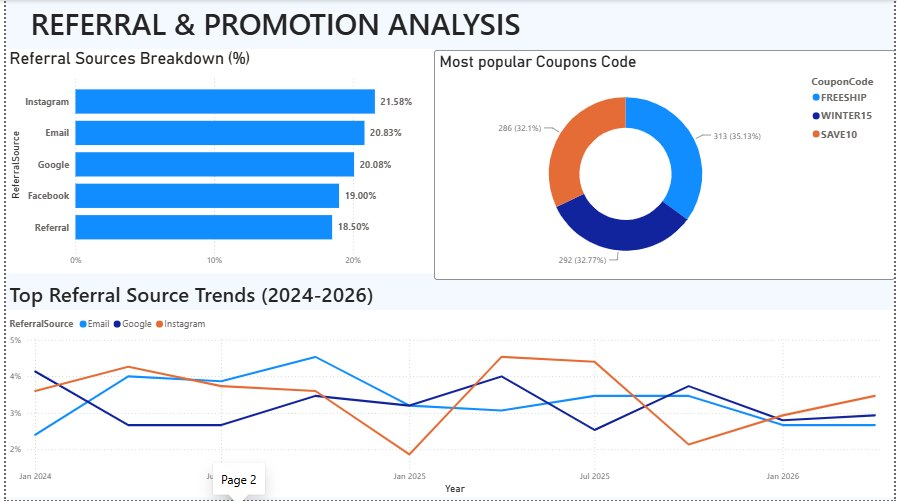

Layout of this report page (visuals, bound fields, positions):
{"tool":"powerbi","page":{"name":"Page 2","canvas":[1280,720],"ordinal":1},"visuals":[{"type":"barChart","title":" Referral Sources Breakdown (%)","fields":{"Category":["Sheet1.ReferralSource"],"Y":["CountNonNull(Sheet1.ReferralSource)"]},"box":[0,70.6,616.5,322.5],"z":0},{"type":"donutChart","title":"Most popular Coupons Code","fields":{"Category":["Sheet1.CouponCode"],"Y":["CountNonNull(Sheet1.CouponCode)"]},"box":[616.5,72.2,663.5,330.9],"z":1000},{"type":"textbox","title":"Top Referral Source Trends (2024-2026)","box":[0,403.1,535.9,43.7],"z":2000},{"type":"lineChart","fields":{"Category":["Sheet1.Date.Variation.Date Hierarchy.Year","Sheet1.Date.Variation.Date Hierarchy.Quarter"],"Y":["CountNonNull(Sheet1.ReferralSource)"],"Series":["Sheet1.ReferralSource"]},"box":[0,446.8,1280,270.4],"z":3000},{"type":"textbox","box":[30.2,0,769.3,68.9],"z":4000}]}

Visuals, with their boxes in screenshot pixels (x1, y1, x2, y2), scaled from the page's 1280x720 canvas onto the 897x501 screenshot:
" Referral Sources Breakdown (%)" barChart: [left=0, top=49, right=432, bottom=274]
"Most popular Coupons Code" donutChart: [left=432, top=50, right=896, bottom=280]
"Top Referral Source Trends (2024-2026)" textbox: [left=0, top=280, right=376, bottom=311]
lineChart - Sheet1.Date.Variation.Date Hierarchy.Year x Sheet1.Date.Variation.Date Hierarchy.Quarter: [left=0, top=311, right=896, bottom=499]
textbox: [left=21, top=0, right=560, bottom=48]
